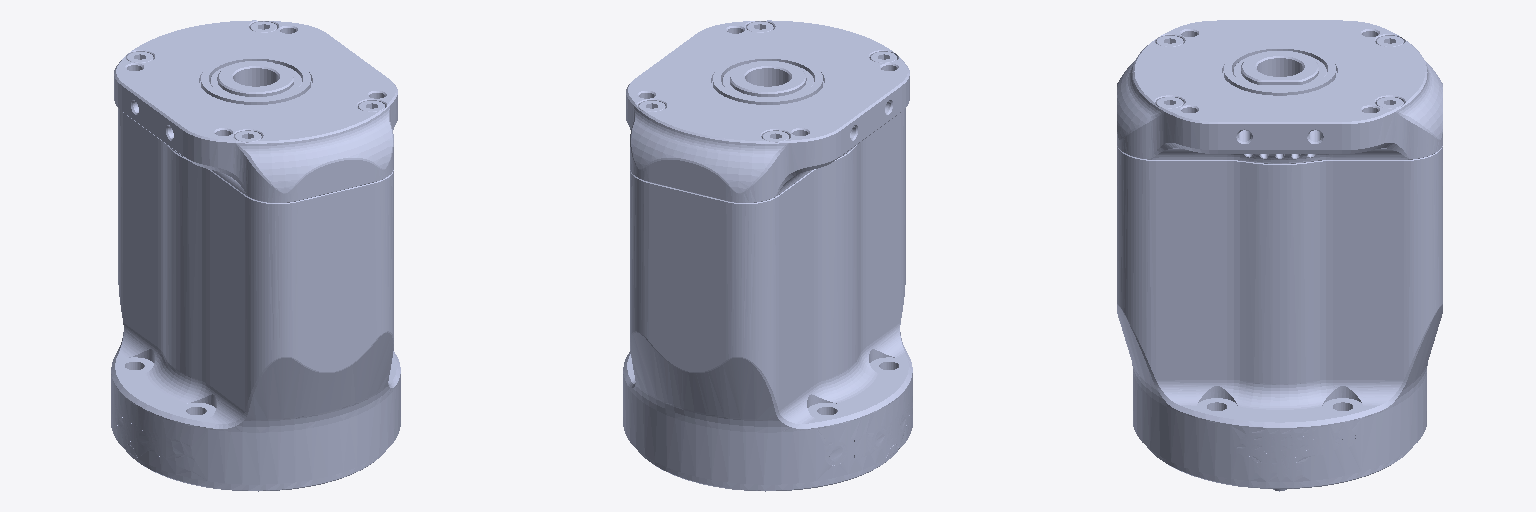
The robot description file, URDF, robot "robotiq_epick":
<?xml version="1.0" encoding="utf-8"?>
<!-- This URDF was automatically created by SolidWorks to URDF Exporter! Originally created by [author] ([email redacted]) 
     Commit Version: 1.5.1-0-g916b5db  Build Version: 1.5.7152.31018
     For more information, please see http://wiki.ros.org/sw_urdf_exporter -->
<robot name="robotiq_epick">
  <link name="robotiq_base_link">
    <inertial>
      <origin xyz="-1.272E-05 -5.0125E-08 -0.044797" rpy="0 0 0" />
      <mass value="0.37395" />
      <inertia ixx="0.00050773" ixy="-2.6668E-10" ixz="2.0492E-07" iyy="0.00040813" iyz="-9.9229E-10" izz="0.00025472" />
    </inertial>
    <visual>
      <origin xyz="0 0 0" rpy="0 0 0" />
      <geometry>
        <mesh filename="package://samk_description/meshes/robotiq_epick/base_link.STL" />
      </geometry>
      <material name="">
        <color rgba="0.79216 0.81961 0.93333 1" />
      </material>
    </visual>
    <collision>
      <origin xyz="0 0 0" rpy="0 0 0" />
      <geometry>
        <mesh filename="package://samk_description/meshes/robotiq_epick/base_link.STL" />
      </geometry>
    </collision>
  </link>
  <link name="robotiq_vacuum_link">
    <inertial>
      <origin xyz="2.2597E-06 -3.0992E-08 0.021057" rpy="0 0 0" />
      <mass value="0.1712" />
      <inertia ixx="4.1922E-05" ixy="2.2135E-07" ixz="2.005E-09" iyy="0.000138" iyz="2.1463E-11" izz="0.00015364" />
    </inertial>
    <visual>
      <origin xyz="0 0 0" rpy="0 0 0" />
      <geometry>
        <mesh filename="package://samk_description/meshes/robotiq_epick/vacuum_link.STL" />
      </geometry>
      <material name="">
        <color rgba="0.86667 0.90588 1 1" />
      </material>
    </visual>
    <collision>
      <origin xyz="0 0 0" rpy="0 0 0" />
      <geometry>
        <mesh filename="package://samk_description/meshes/robotiq_epick/vacuum_link.STL" />
      </geometry>
    </collision>
  </link>
  <joint name="vacuum_joint" type="fixed">
    <origin xyz="0 0 0" rpy="0 0 0" />
    <parent link="robotiq_base_link" />
    <child link="robotiq_vacuum_link" />
    <axis xyz="0 0 0" />
  </joint>
</robot>

--- Facts derived from the render (not from the file) ---
The picture shows the robot from 3 angles, left to right: view 1: azimuth 30°, elevation 25°; view 2: azimuth 150°, elevation 25°; view 3: azimuth 270°, elevation 25°; orthographic projection.
Robot: robotiq_epick — 2 links, 1 joints (1 fixed); root link robotiq_base_link; default pose: every joint at zero.
Visible links, largest first — view 1: robotiq_base_link; view 2: robotiq_base_link; view 3: robotiq_base_link.
Boxes of the visible links, x1=… form: robotiq_base_link: x1=111, y1=20, x2=400, y2=491; robotiq_base_link: x1=623, y1=20, x2=912, y2=491; robotiq_base_link: x1=1117, y1=20, x2=1442, y2=491.
Bounding box of the posed robot: 0.075 × 0.083 × 0.1047 m (x, y, z).
1 mesh visuals loaded from 2 distinct referenced files (1 binary STL); not drawn: 1 (reference not matched to a file when rendering).
